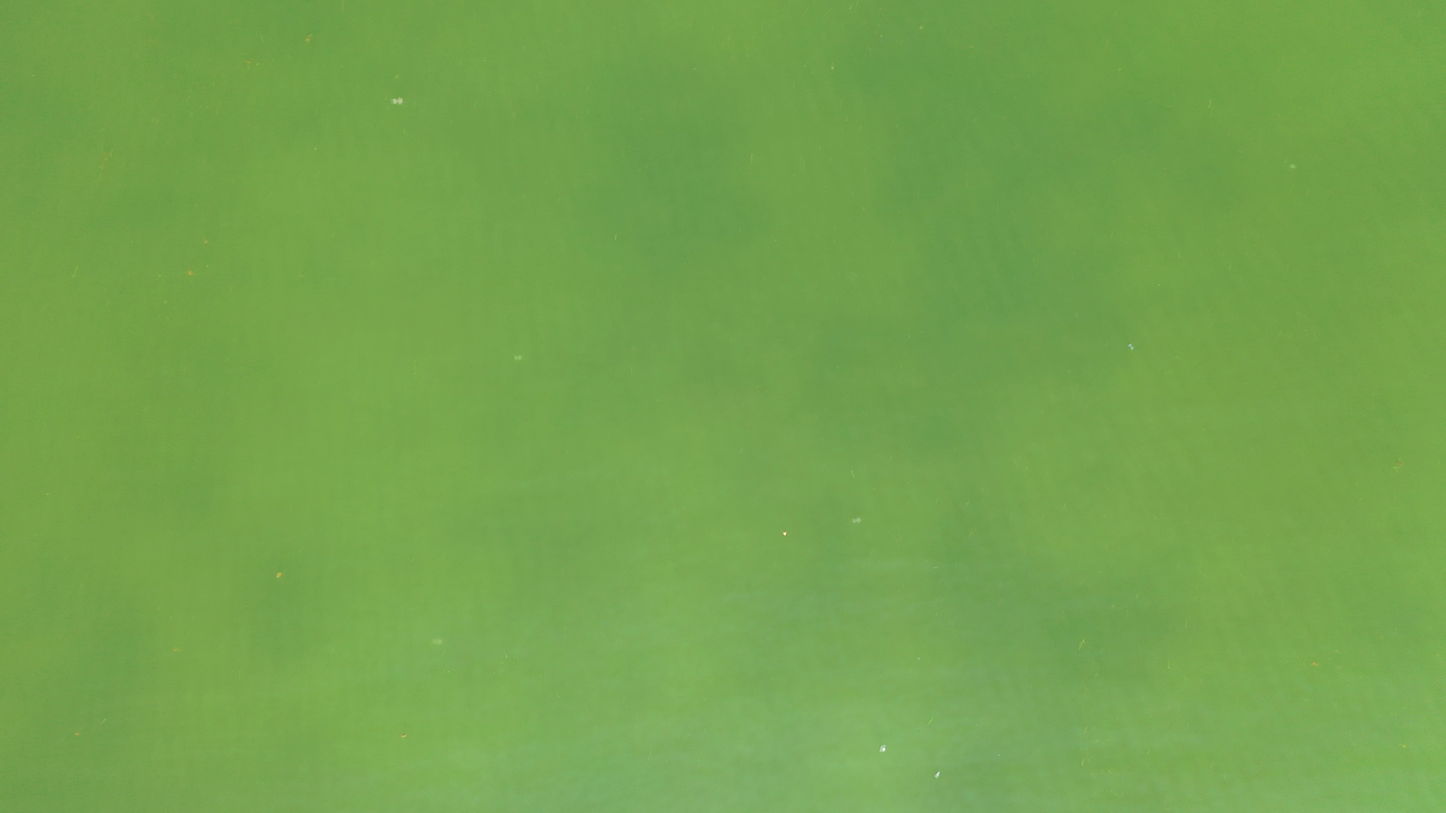meduse: (394, 96, 403, 106), (513, 353, 522, 362), (433, 638, 442, 646), (852, 517, 861, 524), (1128, 344, 1135, 351)
